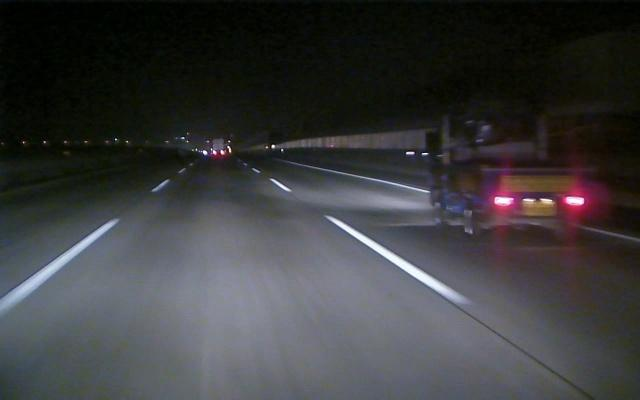lane: (287, 160, 640, 243), (274, 179, 485, 316), (3, 181, 167, 314)
